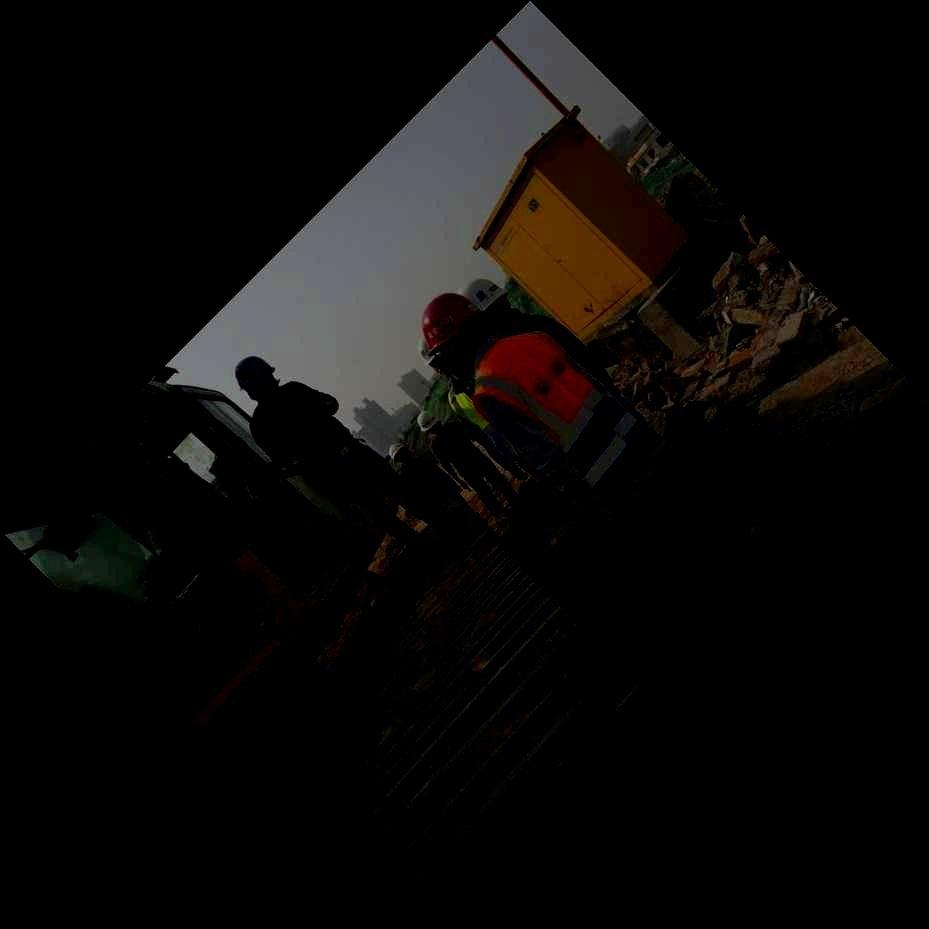helmet: (421, 290, 487, 374), (458, 278, 512, 322), (235, 355, 280, 401), (417, 335, 444, 372), (417, 411, 441, 437), (387, 443, 410, 467)
